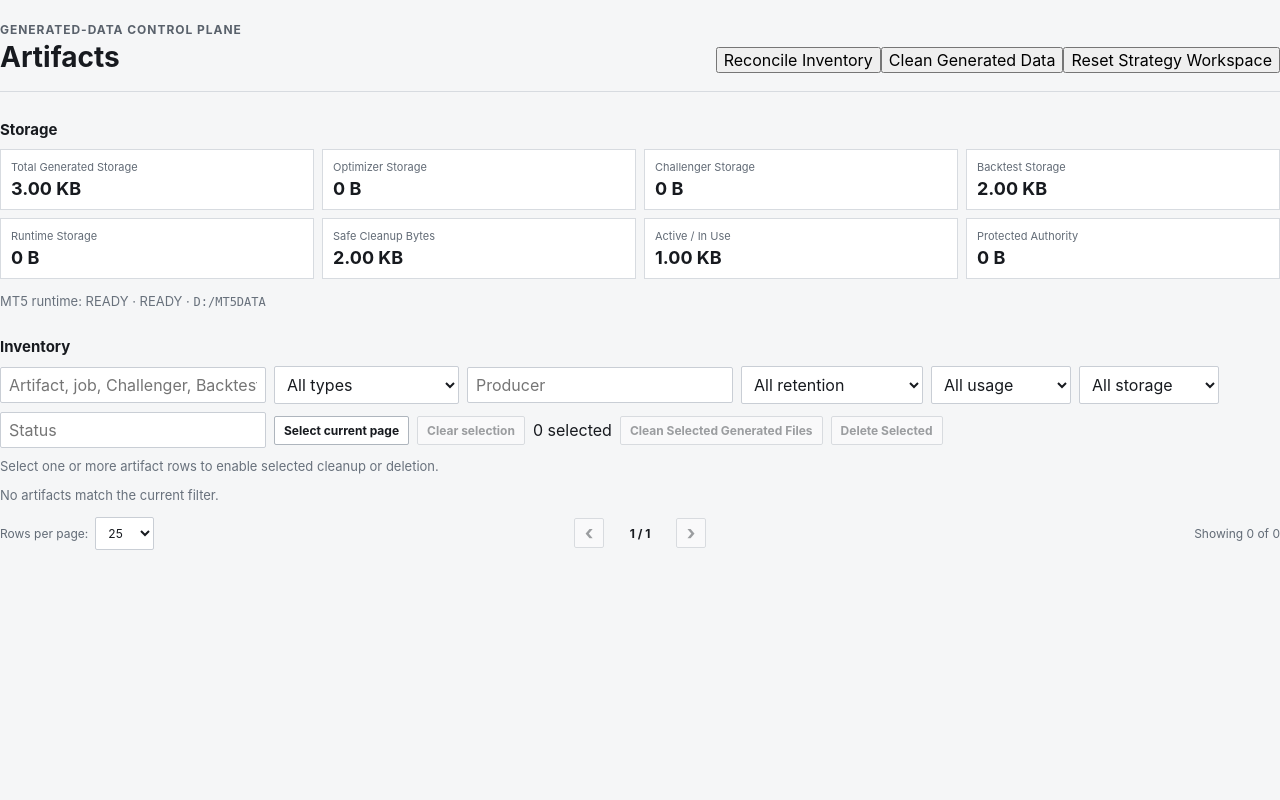
M08 Artifacts workspace › requires exact reset confirmation, shows progress, and reports the backup on success
Click the button "Reset Strategy Workspace" at (1172, 60), box x1=1063 y1=47 x2=1279 y2=73
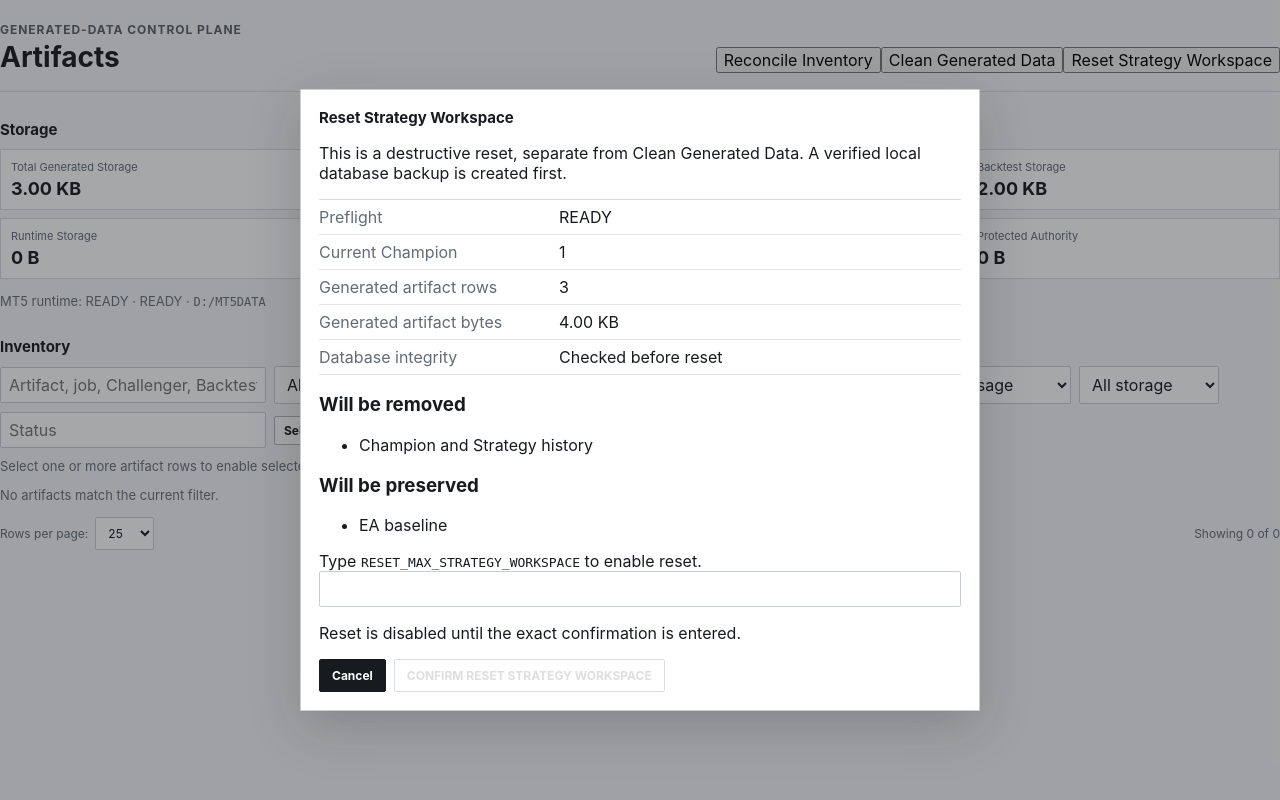
Expected: the button "CONFIRM RESET STRATEGY WORKSPACE" is disabled, x1=394 y1=659 x2=665 y2=692
Type "RESET_MAX_STRATEGY_WORKSPACE" into the field labelled "Type RESET_MAX_STRATEGY_WORKSPACE to enable reset." at (640, 589), box x1=319 y1=571 x2=961 y2=607
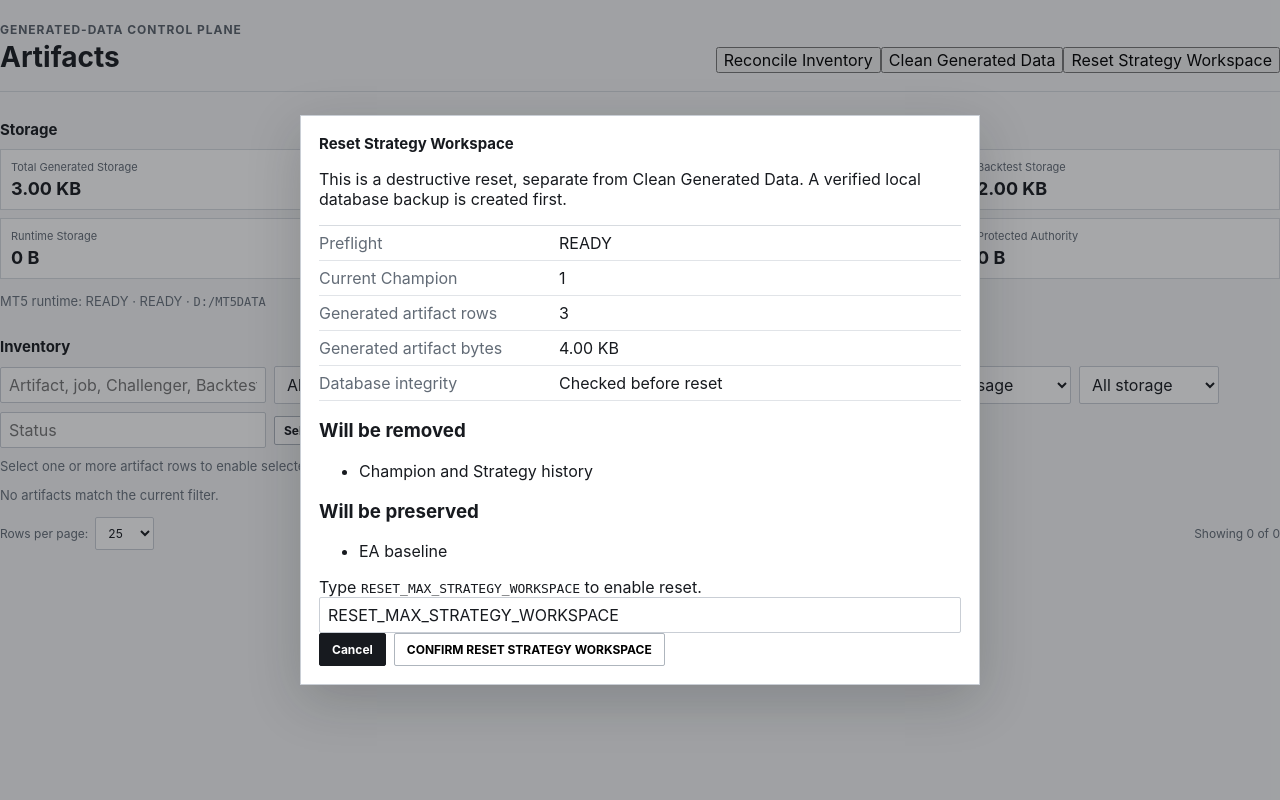
Expected: the button "CONFIRM RESET STRATEGY WORKSPACE" is enabled
Click the button "CONFIRM RESET STRATEGY WORKSPACE" at (529, 650), box x1=394 y1=633 x2=665 y2=666
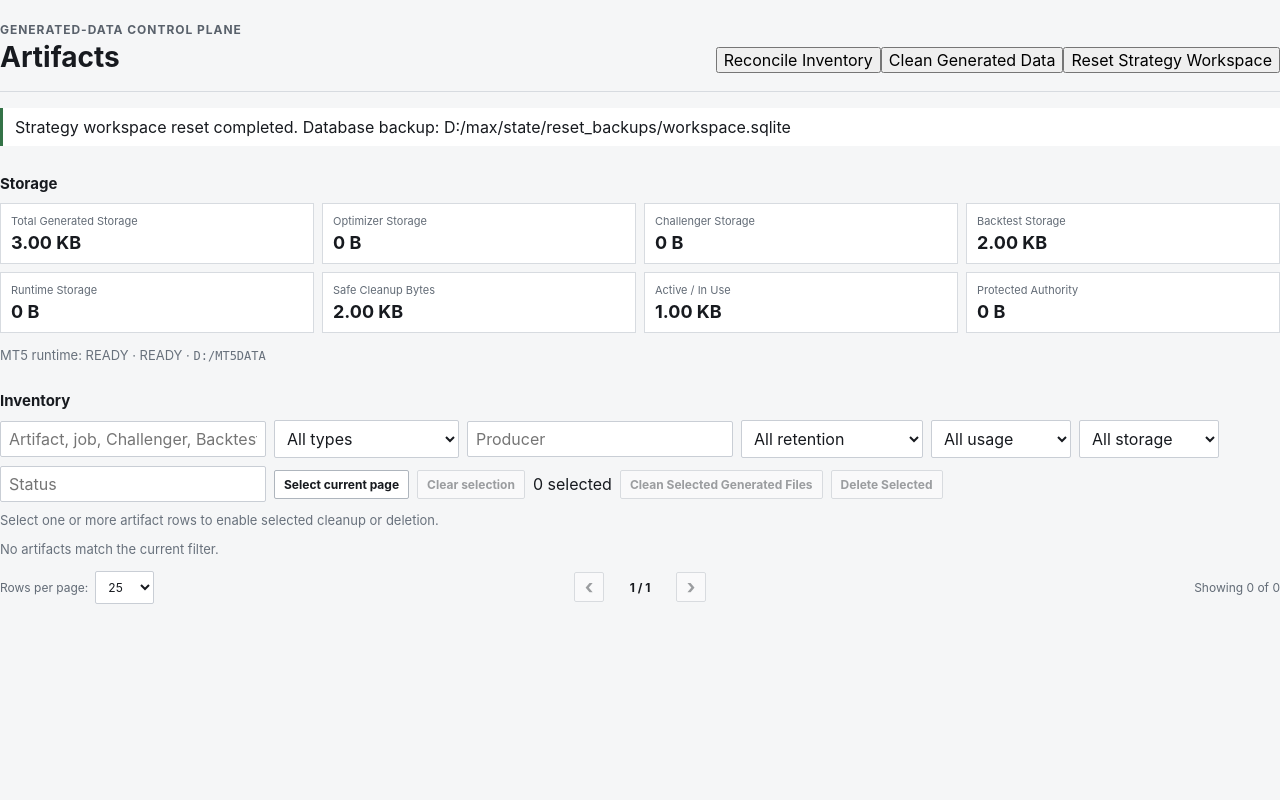
Expected: the text "Strategy workspace reset completed. Database backup: D:/max/state/reset_backups/workspace.sqlite" is shown, x1=15 y1=117 x2=791 y2=137
